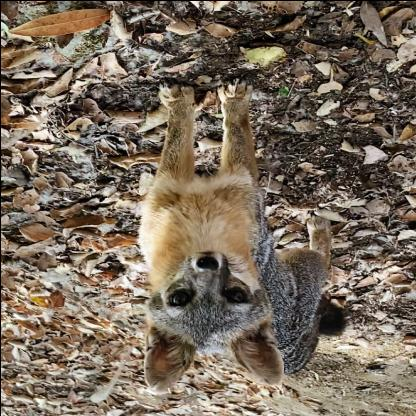zorro: (131, 75, 334, 397)
